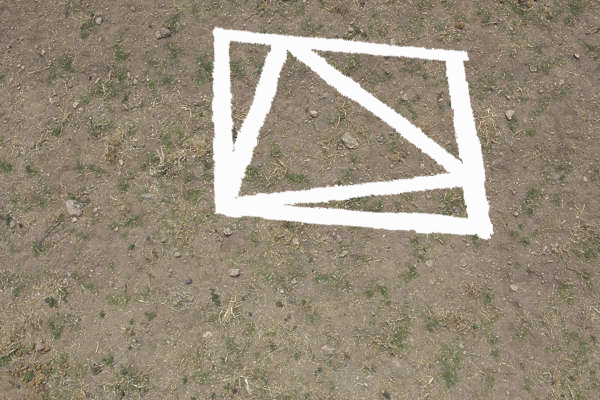marker: (206, 21, 500, 252)
